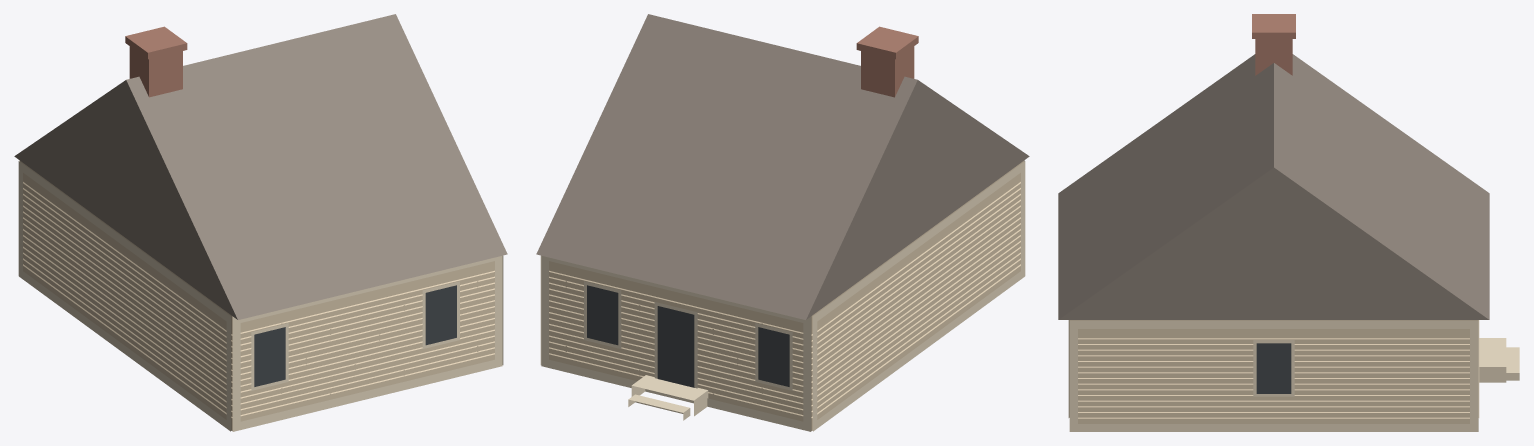
File: recon_1835_blk_randolph_market_d5_01__inferred_1835.glb
3 renders of one model, left to right at view 1: azimuth 30°, elevation 25°; view 2: azimuth 150°, elevation 25°; view 3: azimuth 270°, elevation 25°, orthographic. The views are drawn at different scales.
Visible parts, largest first — view 1: recon_1835_blk_randolph_market_d5_01__inferred_1835; view 2: recon_1835_blk_randolph_market_d5_01__inferred_1835; view 3: recon_1835_blk_randolph_market_d5_01__inferred_1835.
Part boxes in pixels (x1,y1,x2,y2): recon_1835_blk_randolph_market_d5_01__inferred_1835: (14,14,507,431); recon_1835_blk_randolph_market_d5_01__inferred_1835: (536,14,1029,431); recon_1835_blk_randolph_market_d5_01__inferred_1835: (1058,14,1519,431).
Size of the model in its own units: 6.8 by 7.3 by 10.32.
